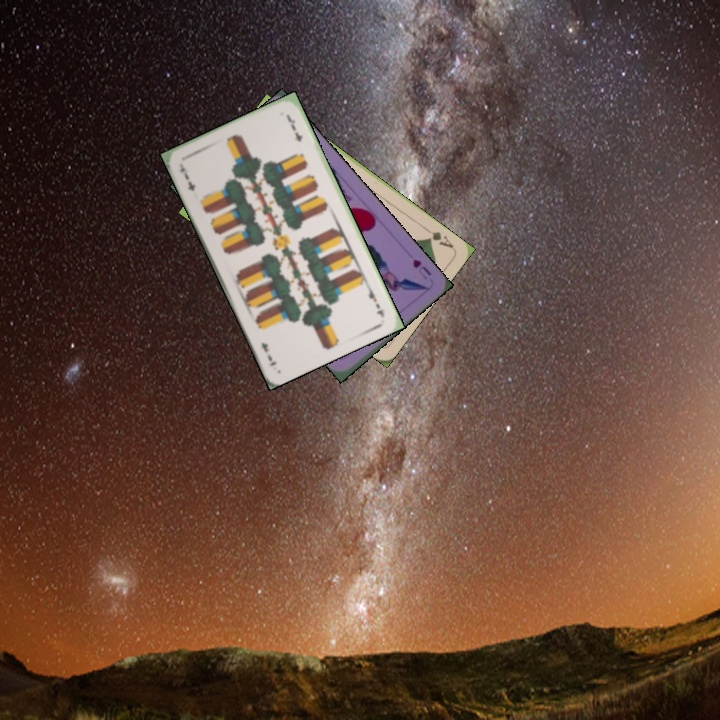E7: (363, 281, 387, 320), (175, 160, 198, 194)
GA: (420, 223, 456, 251)
HU: (408, 255, 434, 282)
